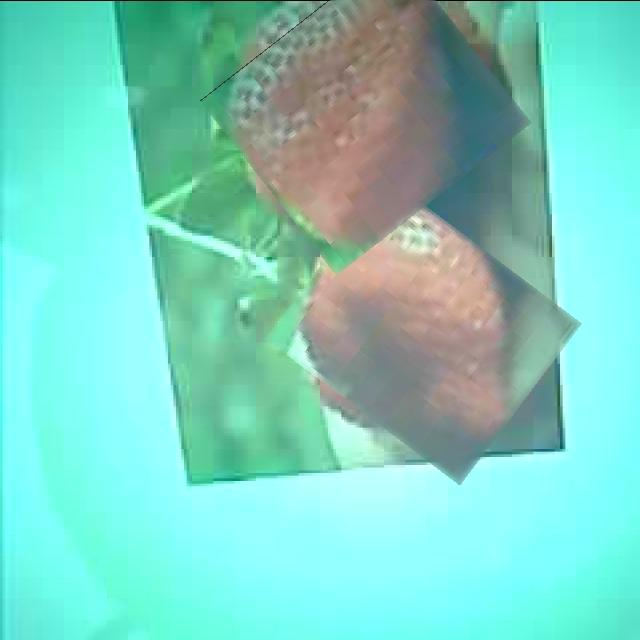strawberry: (284, 203, 564, 460), (221, 0, 511, 248)
